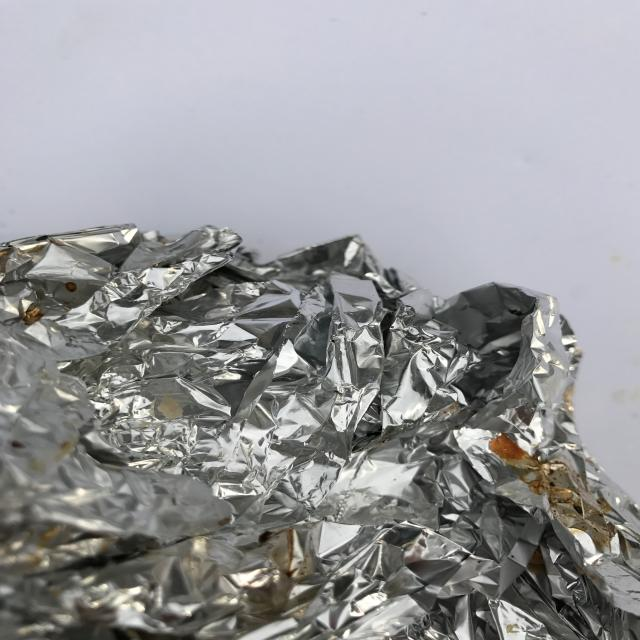metal: (1, 223, 640, 640)
